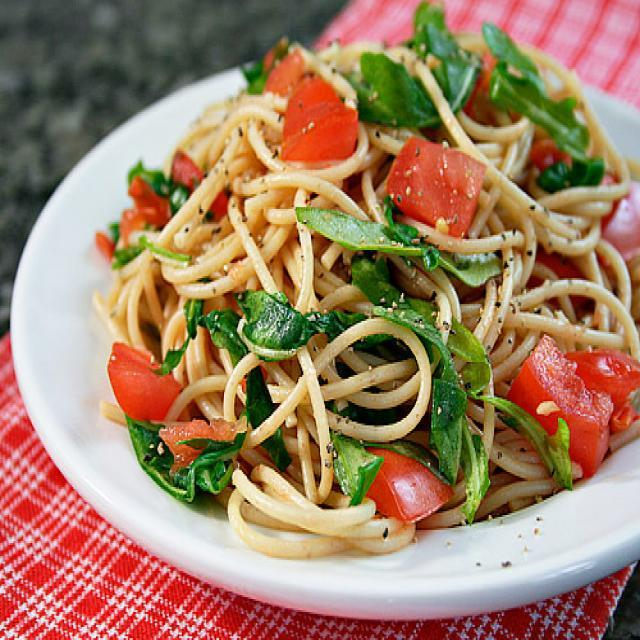Oil pasta: (124, 39, 640, 559)
